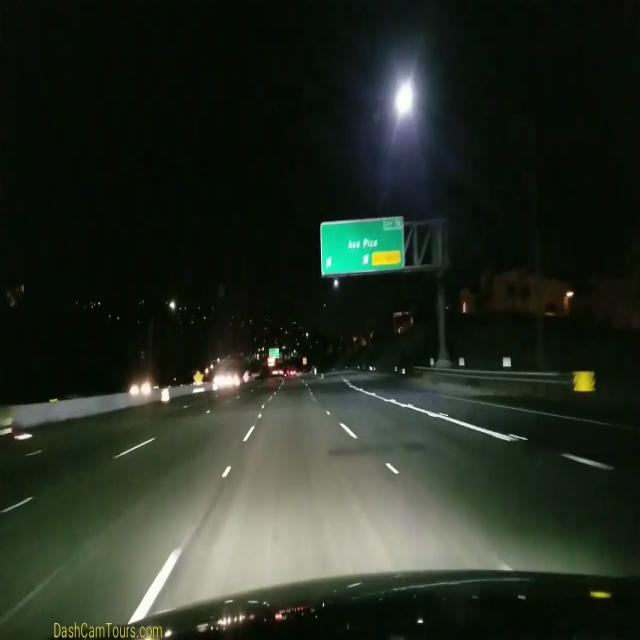street-signs: (320, 215, 405, 276), (268, 346, 280, 359)
